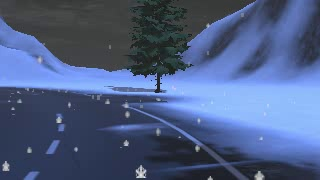Lane: (0, 86, 245, 179)
